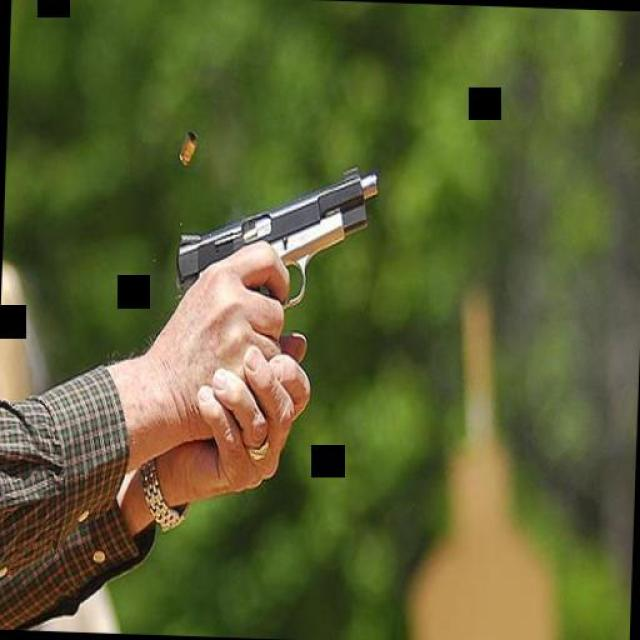gun: (172, 151, 376, 314)
